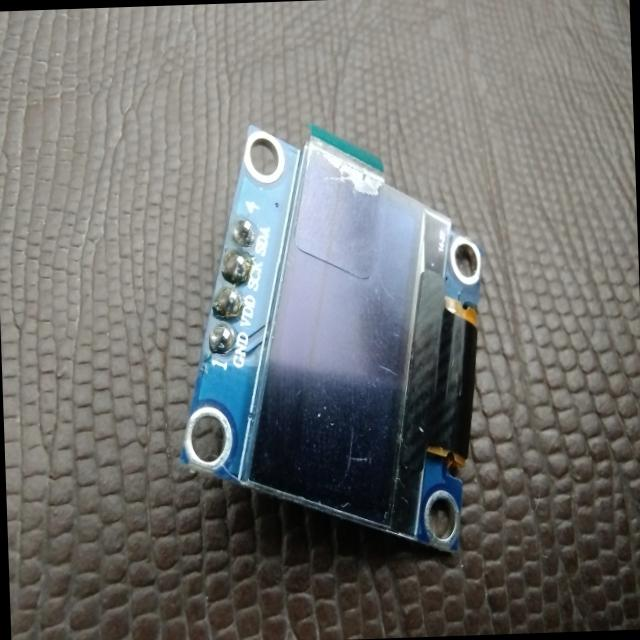oled: (163, 108, 505, 570)
